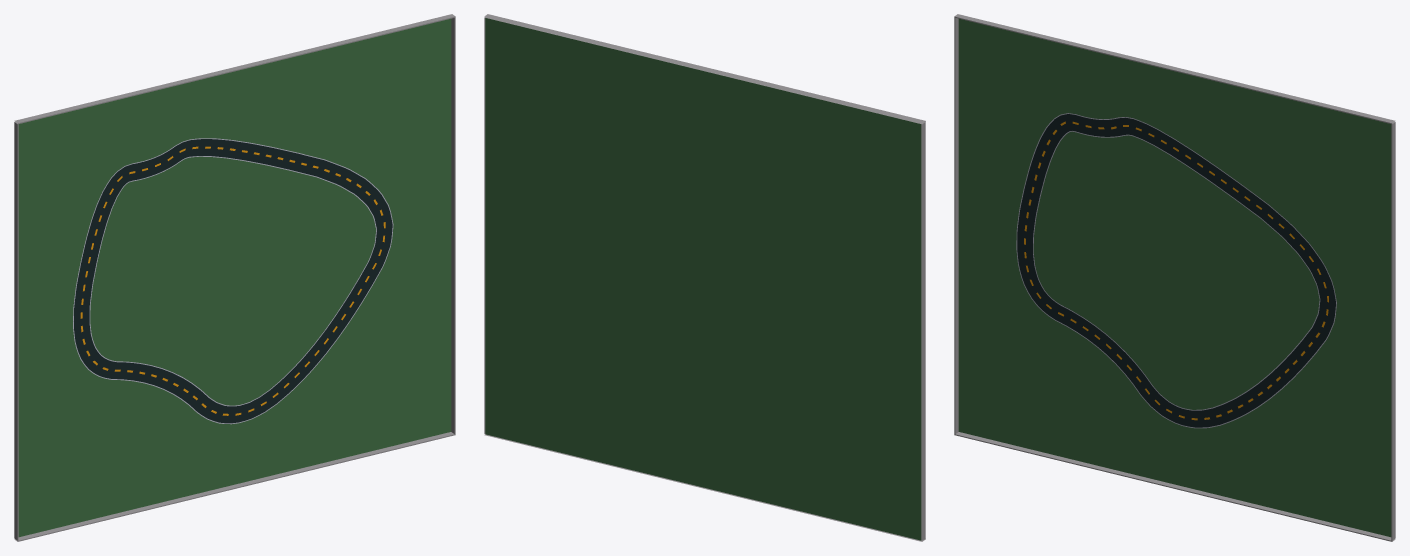
File: track.obj
The picture shows the model from 3 angles, left to right: view 1: azimuth 30°, elevation 25°; view 2: azimuth 150°, elevation 25°; view 3: azimuth 330°, elevation 25°; orthographic projection.
Bounding box in the file's own units: 22.02 × 20.11 × 0.3.
